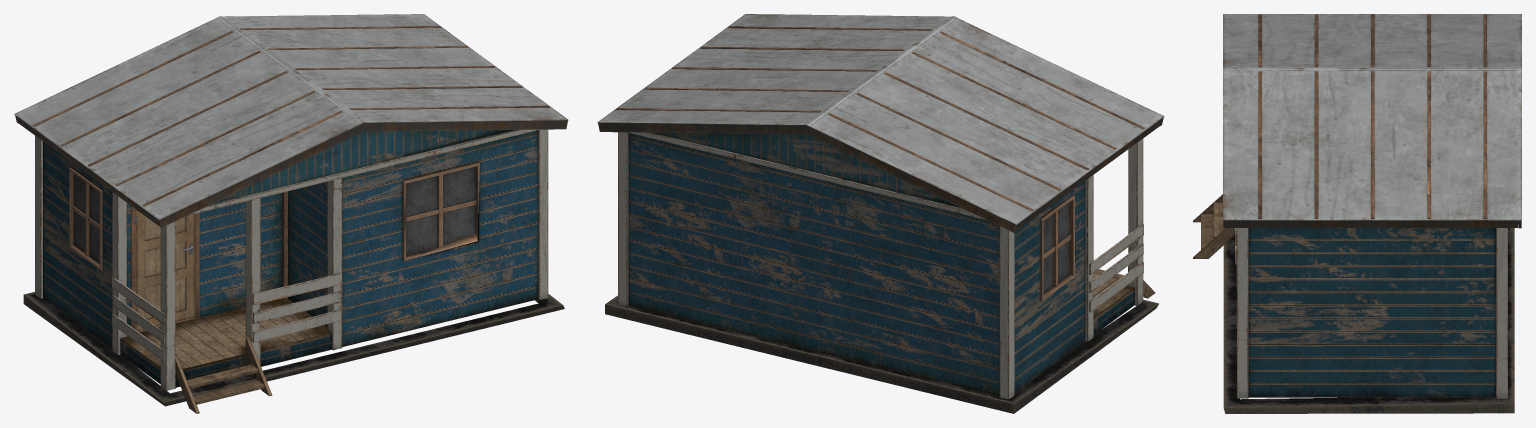
File: Barn Separated.fbx
3 renders of one model, left to right at view 1: azimuth 30°, elevation 25°; view 2: azimuth 150°, elevation 25°; view 3: azimuth 270°, elevation 25°, orthographic. The views are drawn at different scales.
Visible parts, largest first — view 1: Main.025, Main.074, Main.071, Main.016, Main.015, Main, Main.077, Door, Main.060, Main.075, Main.020, Main.008 (+24 smaller); view 2: Main.072, Main.025, Main.071, Main, Main.015, Main.003, Main.024, Main.021, Main.004, Main.008, Main.062, Main.002 (+11 smaller); view 3: Main.025, Main.073, Main, Main.022, Main.004, Main.005, Main.034, Main.031, Main.032, Main.033, Main.035, Main.044 (+2 smaller).
Boxes of the visible parts, x1,y1,x2,y2 form: Main.025: [14, 14, 568, 220]; Main.074: [342, 130, 538, 346]; Main.071: [43, 141, 112, 348]; Main.016: [120, 298, 331, 387]; Main.015: [188, 129, 539, 215]; Main: [23, 292, 564, 406]; Main.077: [199, 193, 282, 317]; Door: [135, 209, 195, 331]; Main.060: [406, 166, 475, 256]; Main.075: [288, 182, 327, 326]; Main.020: [158, 120, 567, 227]; Main.008: [160, 221, 175, 390]; Main.072: [628, 133, 999, 396]; Main.025: [597, 14, 1164, 224]; Main.071: [1014, 181, 1085, 392]; Main: [605, 295, 1158, 413]; Main.015: [627, 132, 986, 220]; Main.003: [999, 226, 1014, 399]; Main.024: [598, 123, 806, 134]; Main.021: [806, 126, 1017, 232]; Main.004: [618, 132, 628, 306]; Main.008: [1128, 138, 1143, 305]; Main.062: [1043, 202, 1070, 293]; Main.002: [1085, 175, 1093, 341]; Main.025: [1223, 14, 1521, 220]; Main.073: [1248, 228, 1496, 397]; Main: [1223, 228, 1514, 413]; Main.022: [1226, 220, 1517, 227]; Main.004: [1496, 228, 1507, 398]; Main.005: [1237, 228, 1248, 398]; Main.034: [1314, 71, 1318, 218]; Main.031: [1483, 71, 1486, 218]; Main.032: [1427, 71, 1430, 218]; Main.033: [1371, 71, 1374, 218]; Main.035: [1258, 71, 1261, 218]; Main.044: [1193, 228, 1234, 258].
Bounding box in the file's own units: 644 × 355 × 434.
